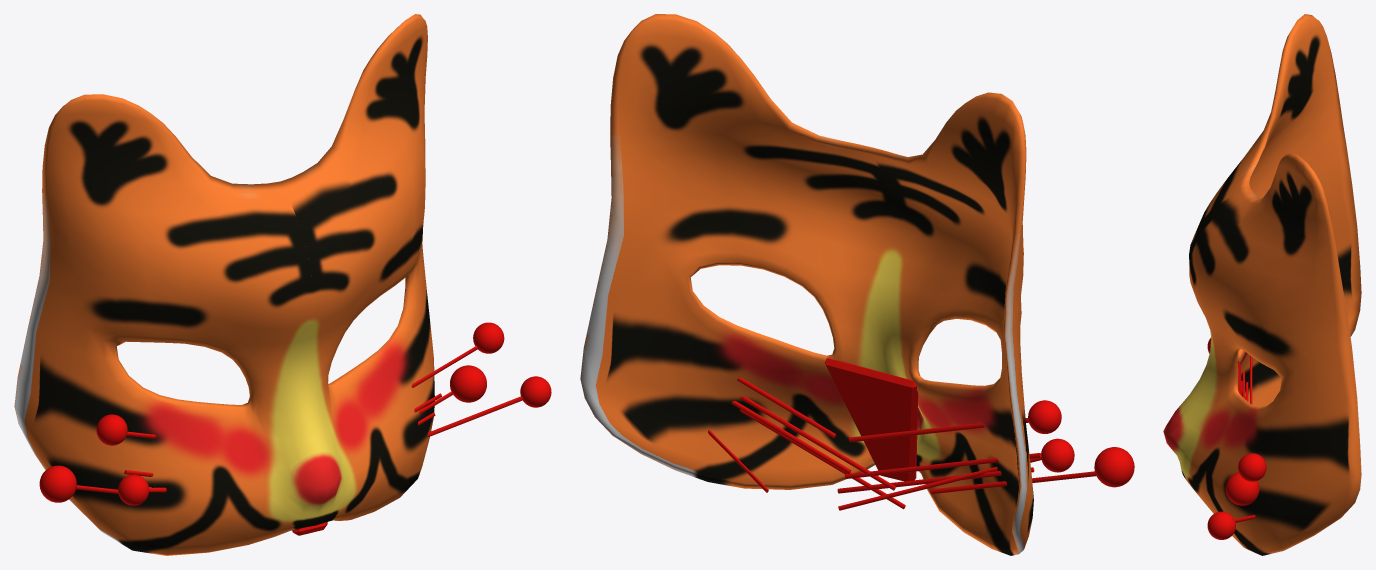
The model's file is cat4.glb.
The picture shows the model from 3 angles, left to right: view 1: azimuth 30°, elevation 25°; view 2: azimuth 150°, elevation 25°; view 3: azimuth 270°, elevation 25°; orthographic projection. The views are drawn at different scales.
Parts seen in each view (by area): view 1: Cat mask vesh, Sphere.001, Sphere, Sphere.002; view 2: Cat mask vesh, Cube, Sphere.001, Sphere.002, Sphere, Cylinder.003, Cylinder.004; view 3: Cat mask vesh, Sphere.001, Sphere, Sphere.002.
Part boxes in pixels (x1=…): Cat mask vesh: x1=14, y1=14, x2=434, y2=555; Sphere.001: x1=39, y1=365, x2=486, y2=502; Sphere: x1=118, y1=376, x2=551, y2=505; Sphere.002: x1=96, y1=322, x2=504, y2=445; Cat mask vesh: x1=580, y1=14, x2=1033, y2=555; Cube: x1=825, y1=358, x2=918, y2=481; Sphere.001: x1=731, y1=401, x2=1134, y2=494; Sphere.002: x1=737, y1=378, x2=1061, y2=442; Sphere: x1=708, y1=430, x2=1074, y2=510; Cylinder.003: x1=740, y1=396, x2=1041, y2=490; Cylinder.004: x1=740, y1=409, x2=1034, y2=509; Cat mask vesh: x1=1163, y1=14, x2=1361, y2=555; Sphere.001: x1=1225, y1=382, x2=1259, y2=505; Sphere: x1=1207, y1=338, x2=1255, y2=539; Sphere.002: x1=1238, y1=355, x2=1266, y2=481.
Bounding box in the file's own units: 4.73 × 4.11 × 1.8.
Materials: 4 (1 with a texture image).
